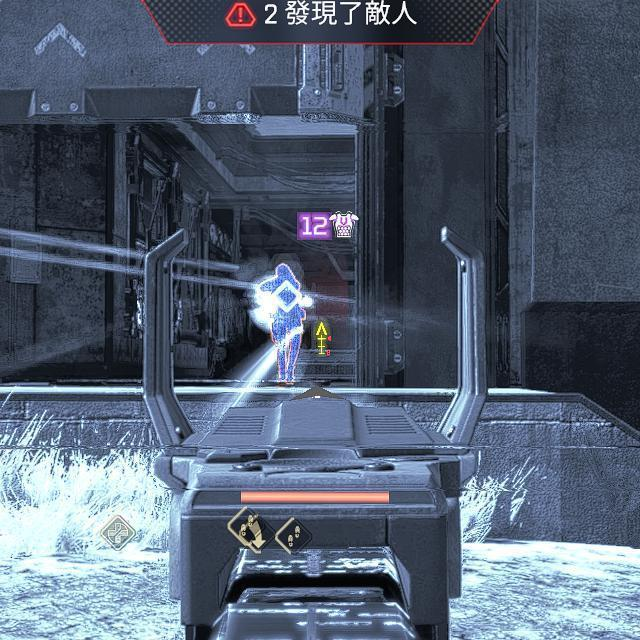avatar: (254, 260, 309, 387)
object: (270, 278, 304, 314)
